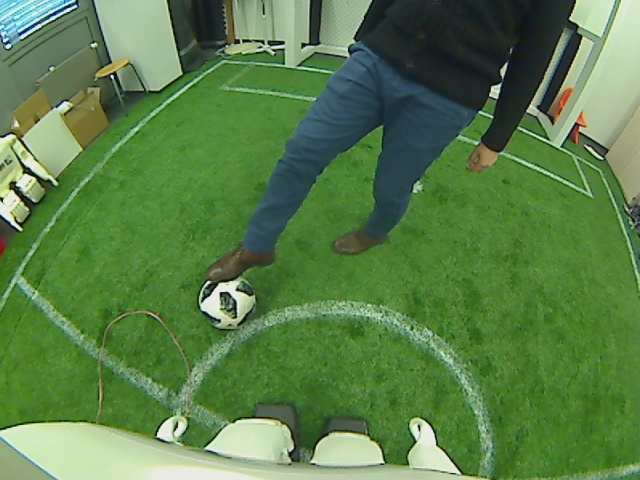ball: (196, 275, 257, 327)
